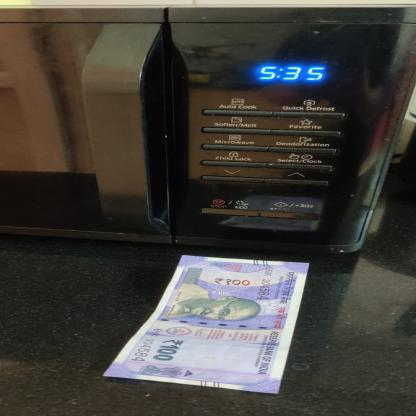New100Front: (103, 256, 314, 396)
